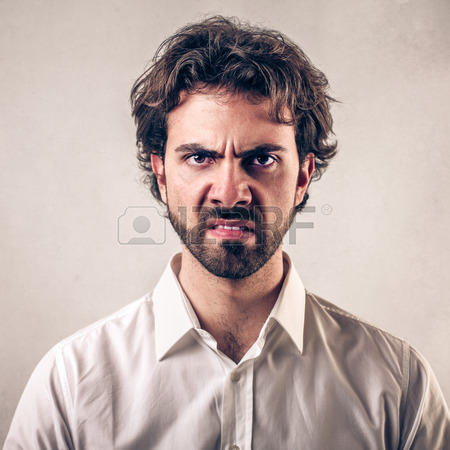angry: (167, 114, 300, 283)
